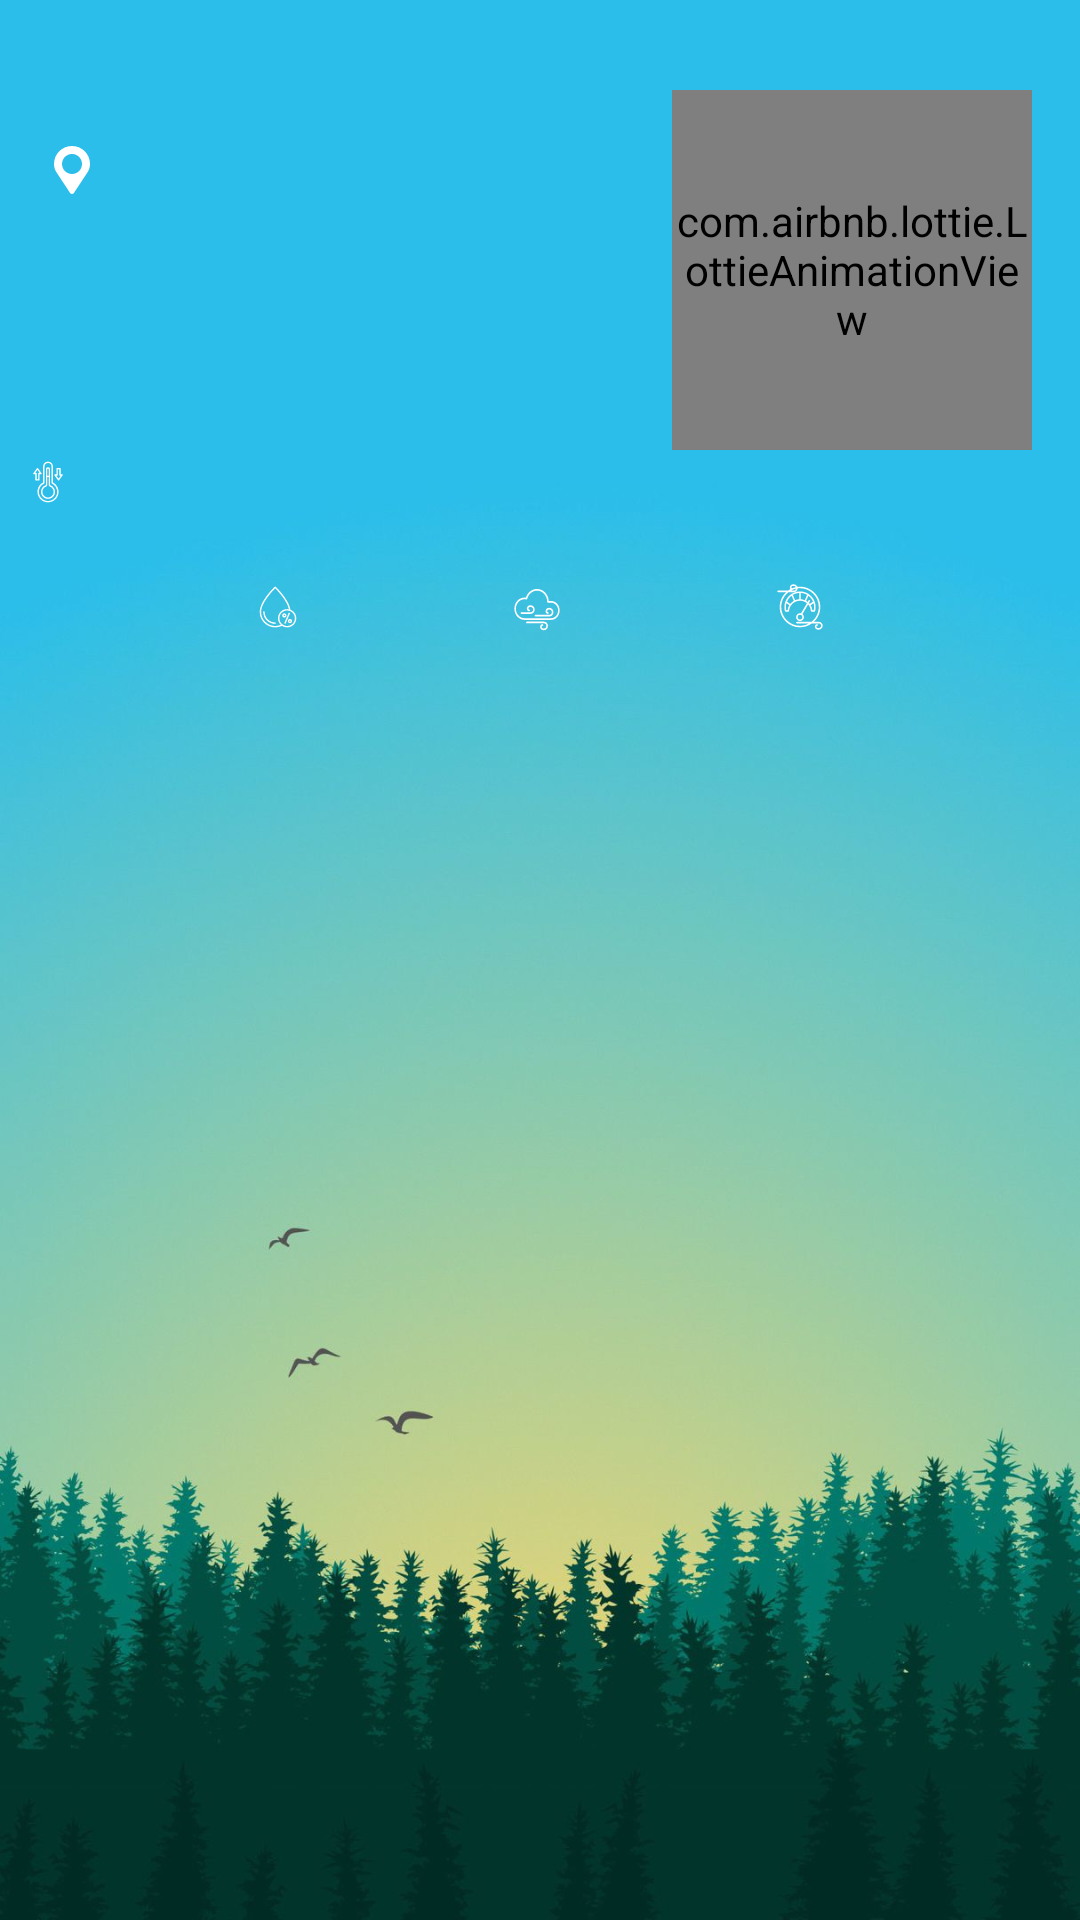

Named icons in this screenshot (1080w x 1920h) and their bounding boxes, (x1, y1, x2, y2):
location: (54, 146, 90, 194)
